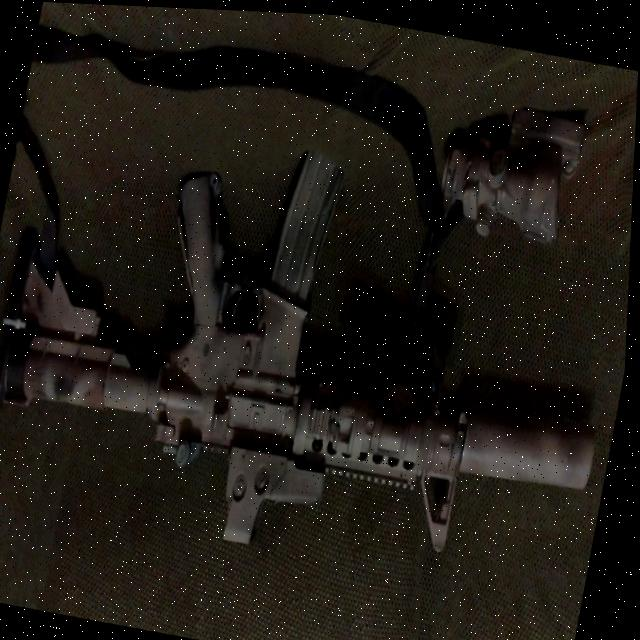firearm: (0, 93, 637, 603)
